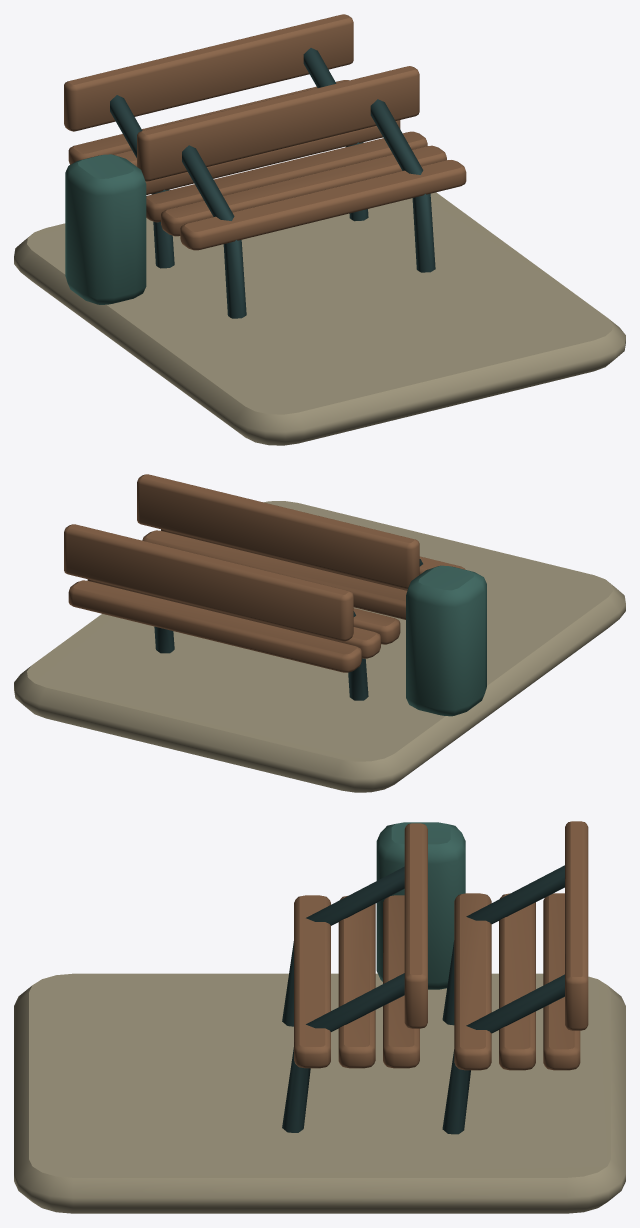
File: annex_parking_2.glb
The picture shows the model from 3 angles, top to bottom: view 1: azimuth 30°, elevation 25°; view 2: azimuth 150°, elevation 25°; view 3: azimuth 270°, elevation 25°; orthographic projection. The views are drawn at different scales.
Visible parts, largest first — view 1: AnnexParking2; view 2: AnnexParking2; view 3: AnnexParking2.
Boxes of the visible parts, x1,y1,x2,y2 form: AnnexParking2: [14, 14, 625, 445]; AnnexParking2: [14, 474, 625, 792]; AnnexParking2: [14, 821, 625, 1213].
Size of the model in its own units: 2.12 by 0.95 by 2.48.
